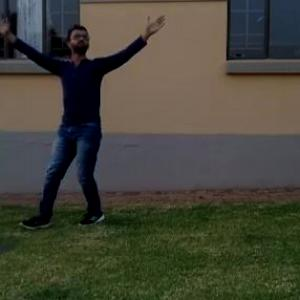takeoff: (1, 21, 164, 221)
